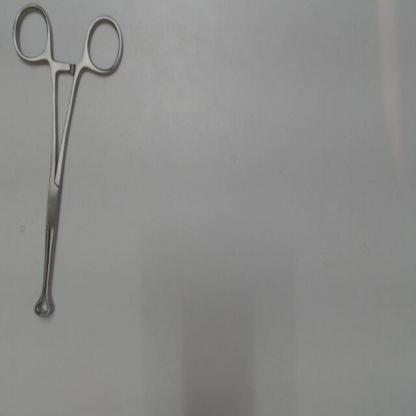Babcock Tissue Forceps: (9, 0, 128, 326)
